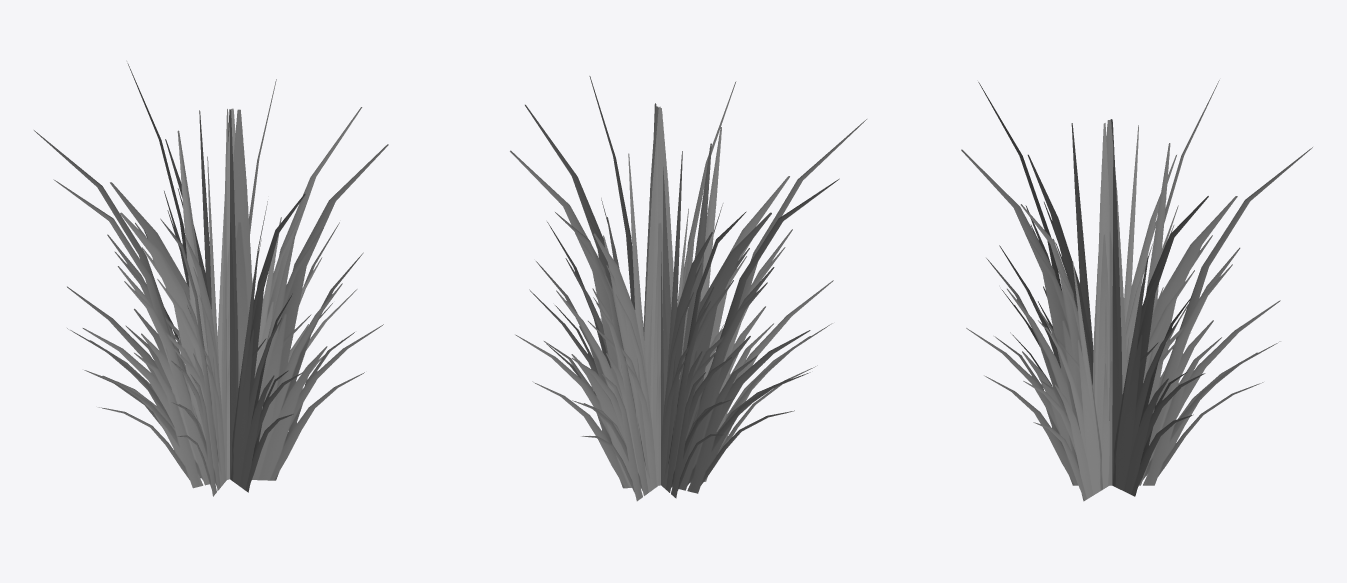
File: grass.fbx
3 views of the same model, side by side, from view 1: azimuth 30°, elevation 25°; view 2: azimuth 150°, elevation 25°; view 3: azimuth 270°, elevation 25° (orthographic). The views are drawn at different scales.
Visible parts, largest first — view 1: Plane.037; view 2: Plane.037; view 3: Plane.037.
Part boxes in pixels (x1,y1,x2,y2): Plane.037: (34, 63, 388, 496); Plane.037: (510, 76, 866, 501); Plane.037: (961, 80, 1312, 501).
Size of the model in its own units: 16.18 by 16.18 by 16.18.
1 material, 1 textured.
